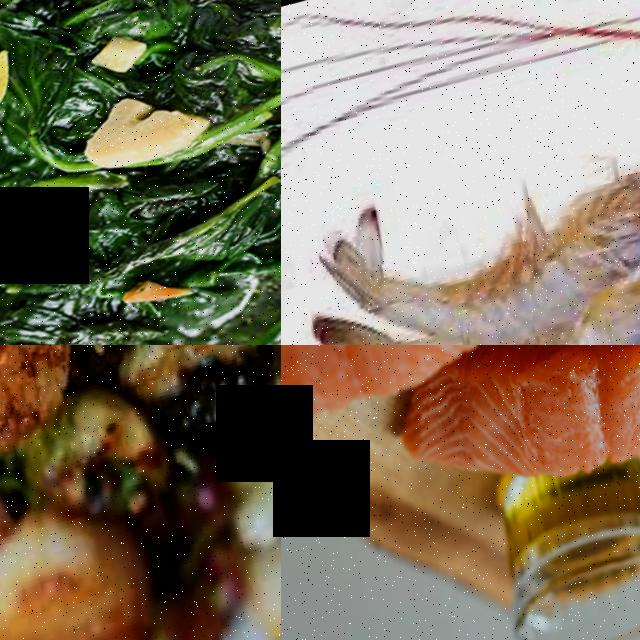salmon: (398, 345, 640, 519), (281, 345, 630, 460)
sea scallops: (0, 498, 172, 640)
shrimp: (349, 138, 640, 345)
